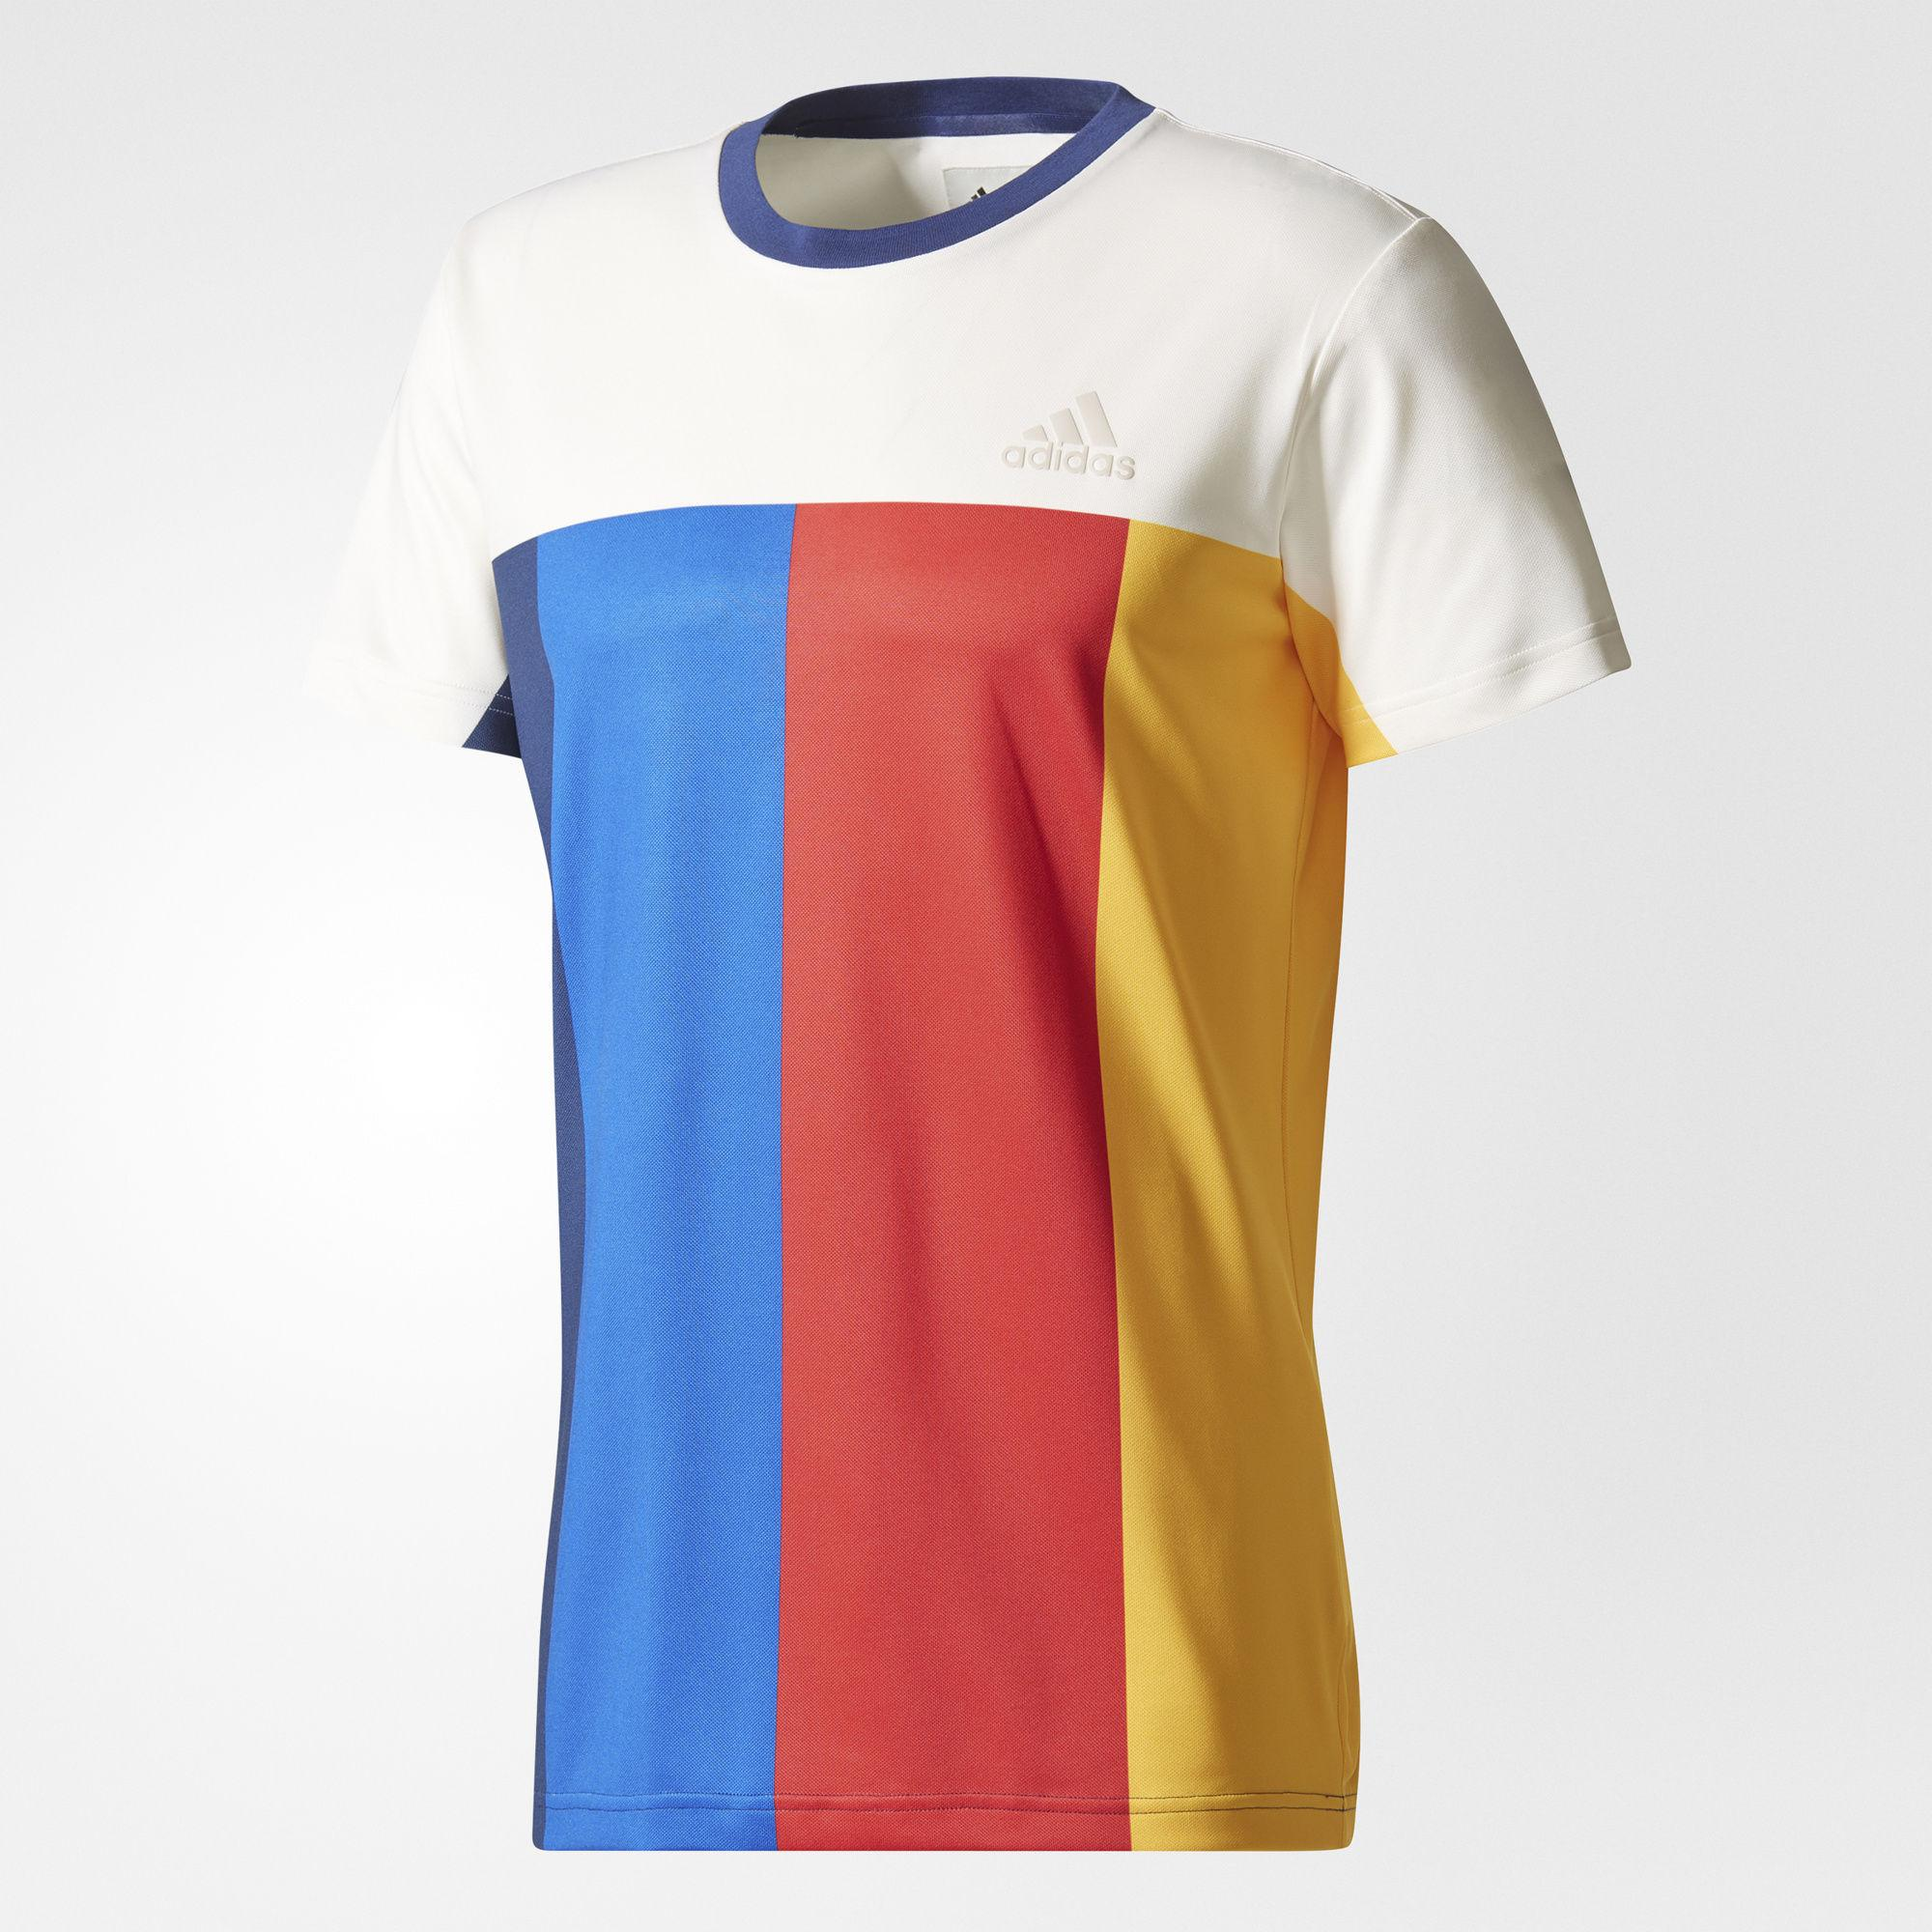teeshirt: (297, 55, 1652, 1932)
